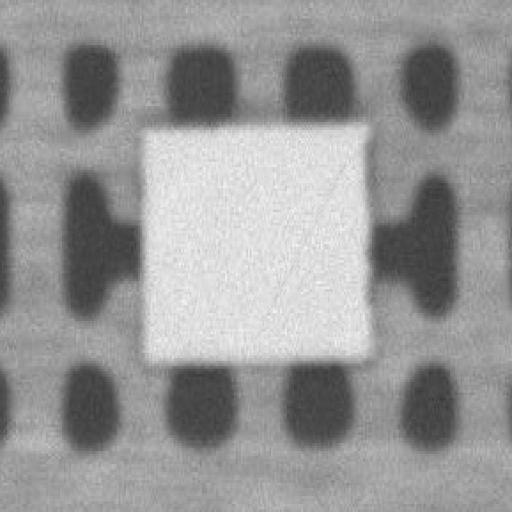DIE_CRACK: (376, 108, 512, 225)
